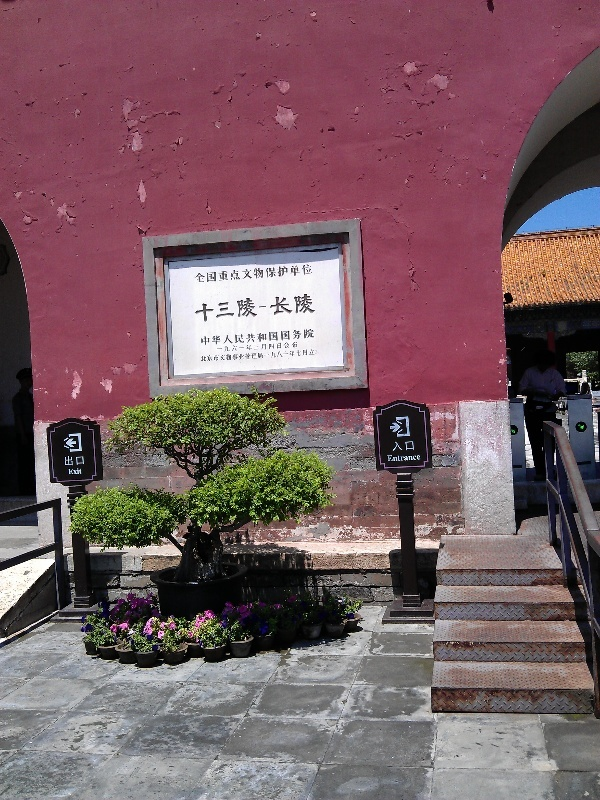text: (209, 292, 224, 323), (225, 292, 240, 323), (241, 292, 256, 323), (257, 292, 272, 323), (273, 292, 288, 323), (289, 292, 304, 323), (195, 292, 208, 323), (305, 292, 317, 323), (209, 264, 224, 285), (225, 264, 240, 285), (241, 264, 256, 285), (257, 264, 272, 285), (273, 264, 288, 285), (289, 264, 304, 285), (194, 264, 208, 285), (209, 328, 224, 347), (225, 328, 240, 347), (241, 328, 256, 347), (257, 328, 272, 347), (273, 328, 288, 347), (289, 328, 304, 347), (209, 349, 224, 363), (225, 349, 240, 363), (241, 349, 256, 363), (257, 349, 272, 363), (273, 349, 288, 363), (289, 349, 304, 363), (305, 328, 315, 347), (401, 440, 416, 452), (305, 264, 313, 285), (65, 455, 80, 466), (225, 342, 240, 353), (241, 342, 256, 353), (257, 342, 272, 353), (273, 342, 288, 353), (200, 328, 208, 347), (305, 349, 315, 363), (401, 454, 416, 463), (387, 454, 400, 463), (200, 349, 208, 363), (289, 342, 299, 353), (392, 440, 400, 452), (68, 468, 80, 476), (216, 342, 224, 353), (417, 454, 422, 463), (81, 455, 85, 466), (81, 468, 84, 476)
